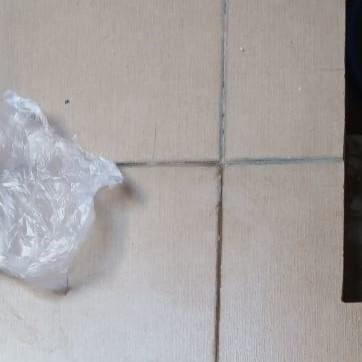Plastik: (0, 89, 124, 296)
